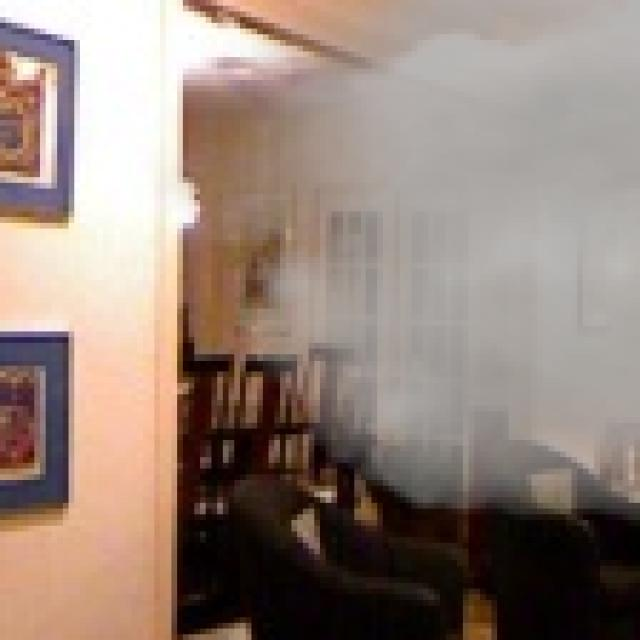smoke: (137, 0, 640, 549)
